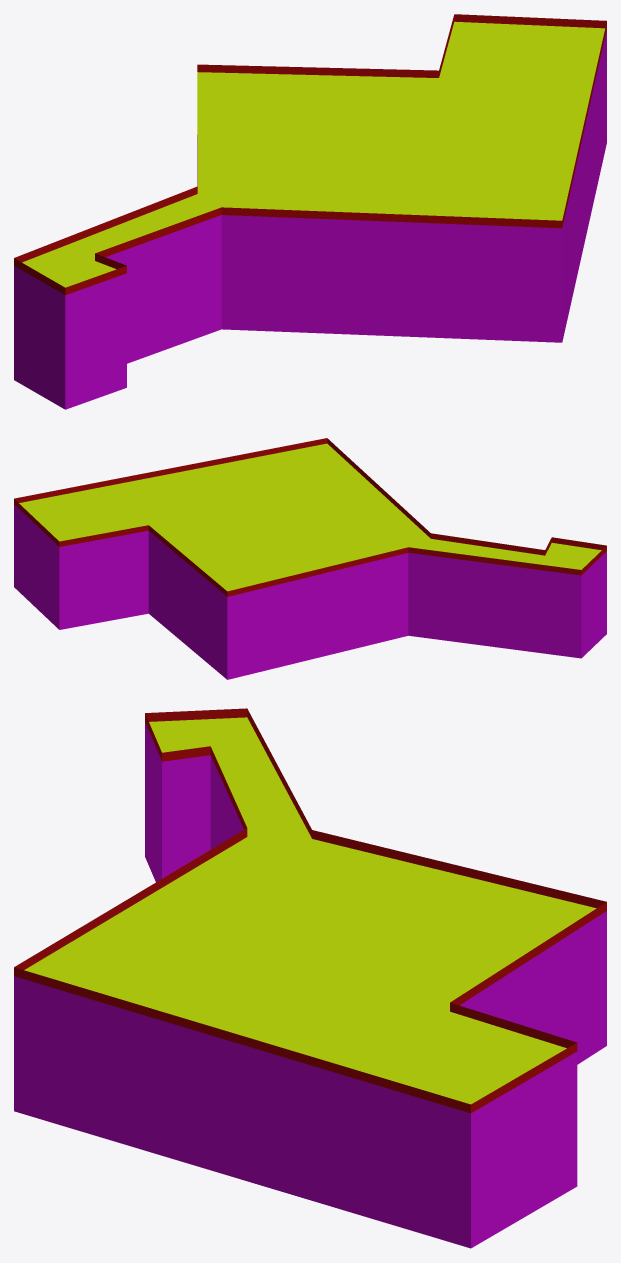
The model's file is sal_9.glb.
3 views of the same model, one above another, from view 1: azimuth 30°, elevation 25°; view 2: azimuth 150°, elevation 25°; view 3: azimuth 270°, elevation 25° (orthographic). The views are drawn at different scales.
Parts seen in each view (by area): view 1: sal_9; view 2: sal_9; view 3: sal_9.
Boxes of the visible parts, x1,y1,x2,y2 form: sal_9: (14, 14, 606, 409); sal_9: (14, 438, 606, 679); sal_9: (14, 708, 606, 1248).
Bounding box in the file's own units: 33.17 × 5.63 × 20.99.
